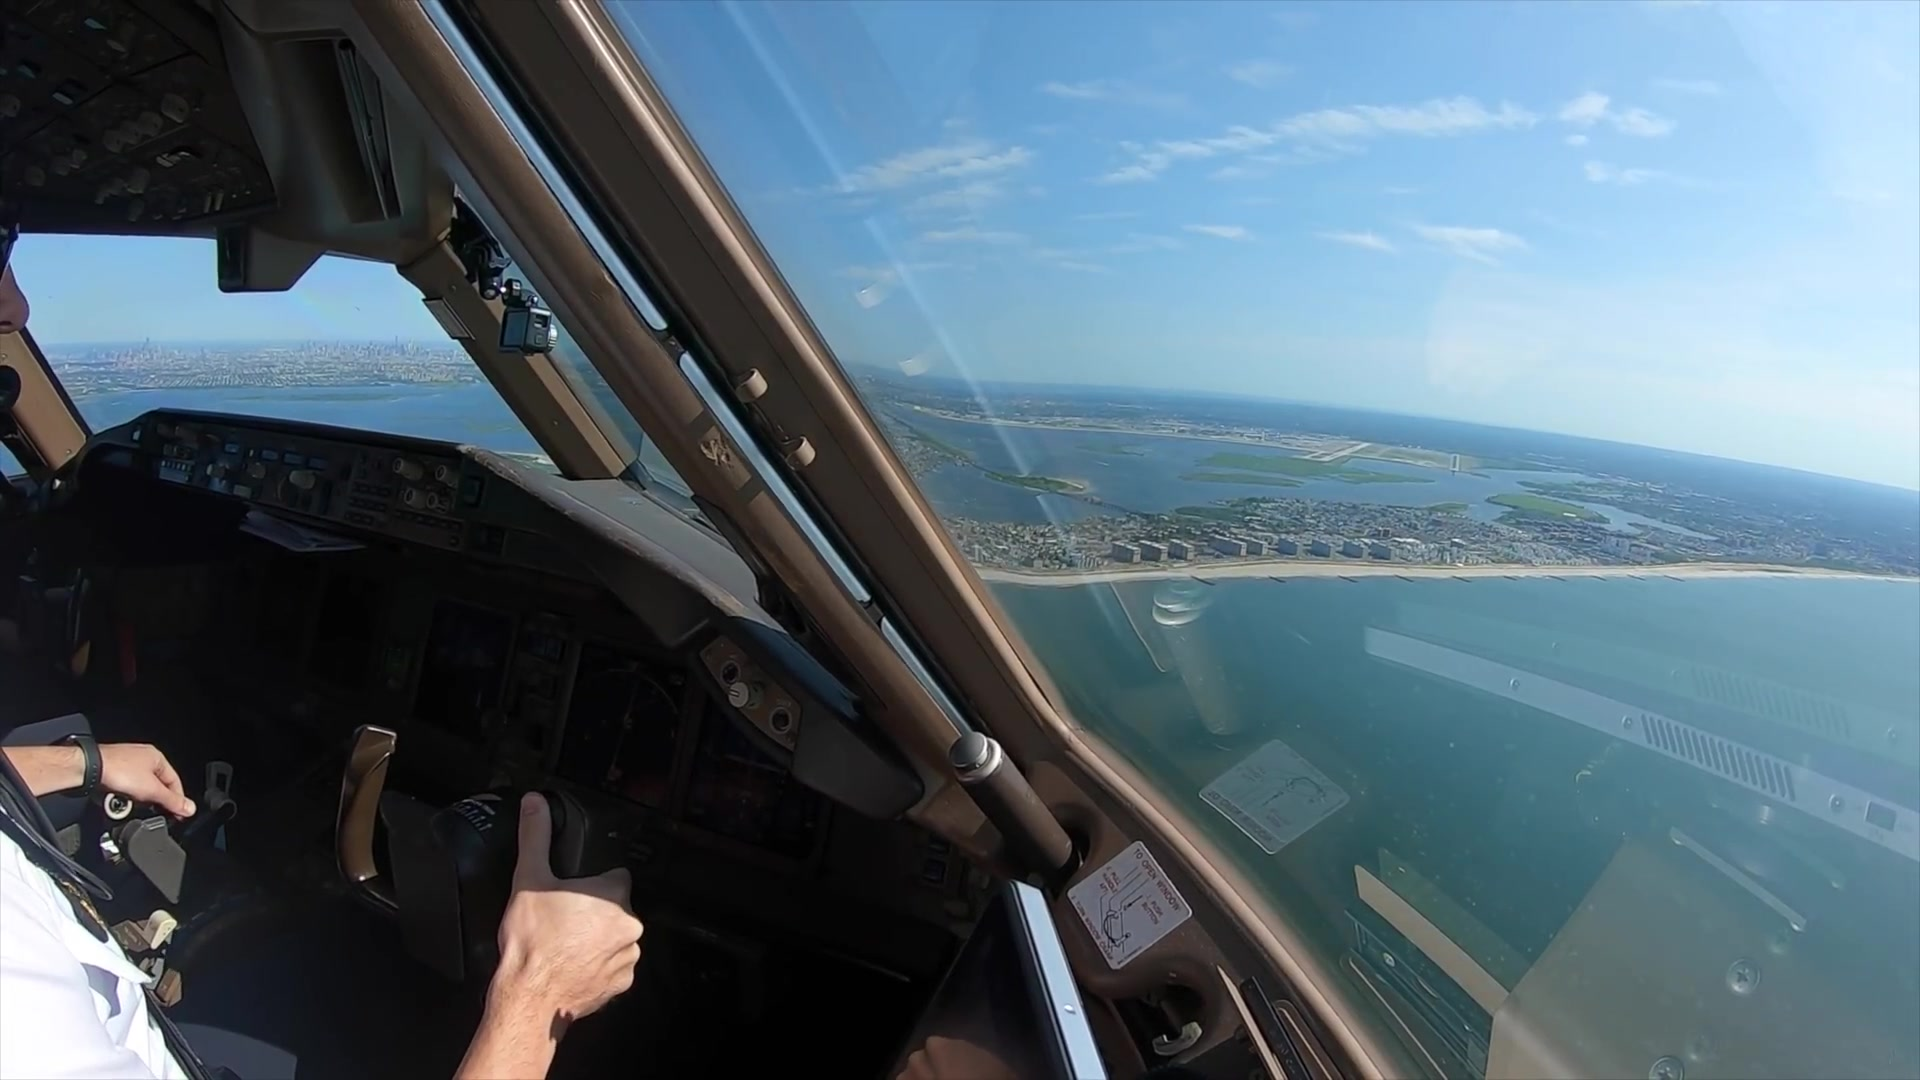runway: (1317, 442, 1371, 464), (1447, 452, 1460, 473)
